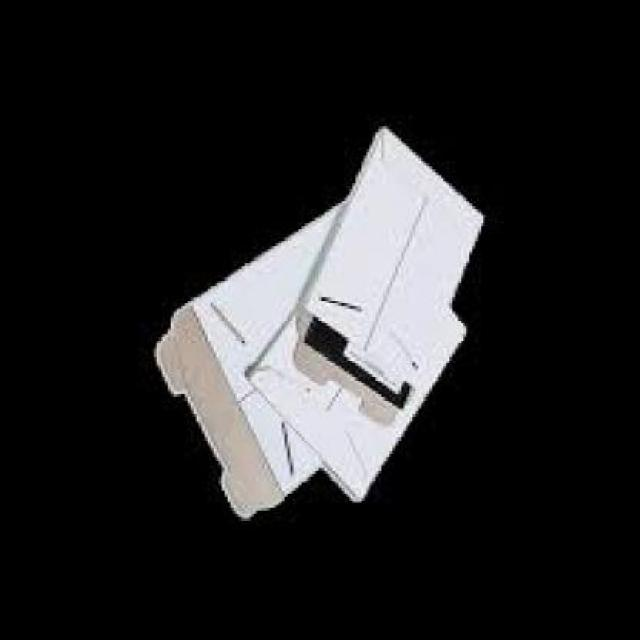CARDBOARD: (156, 196, 401, 515), (292, 114, 490, 415), (248, 236, 469, 495)
